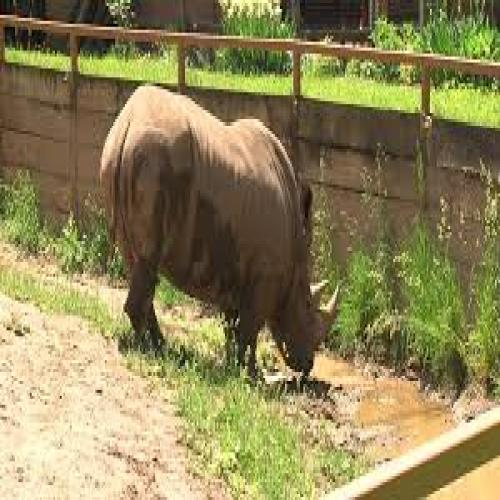rhino-endangered: (97, 78, 341, 379)
